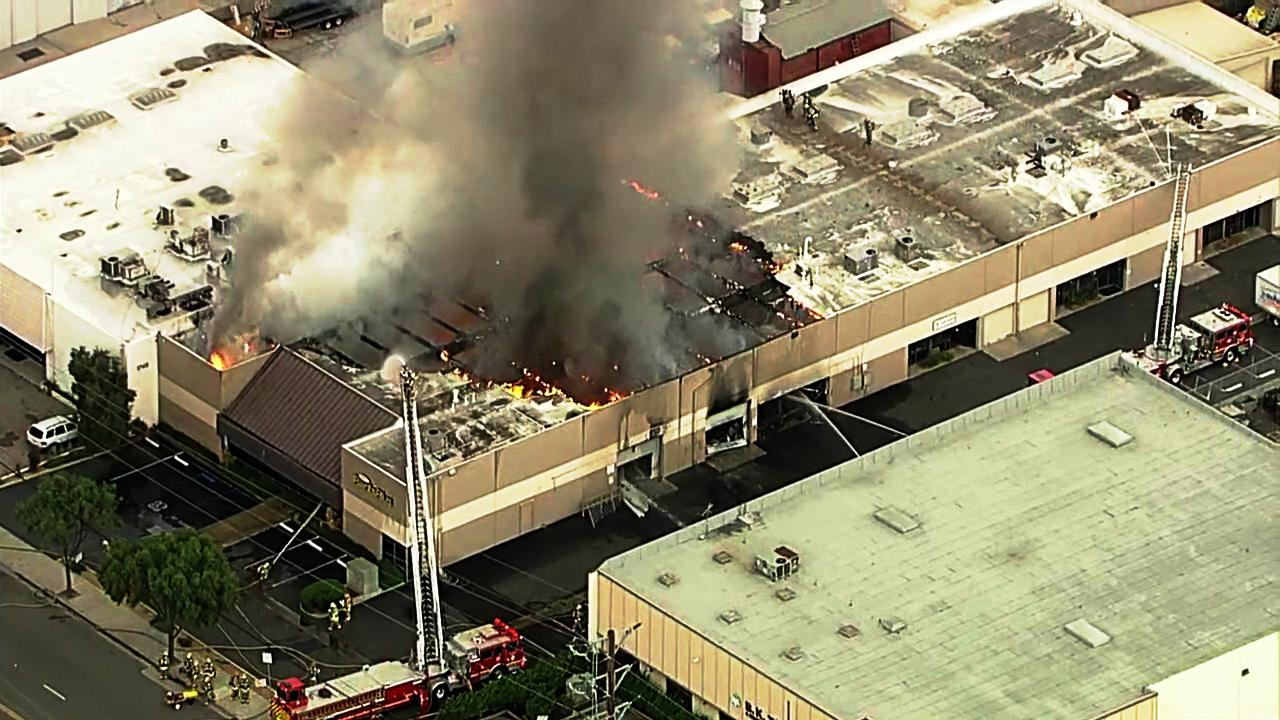smoke: (512, 7, 669, 367)
